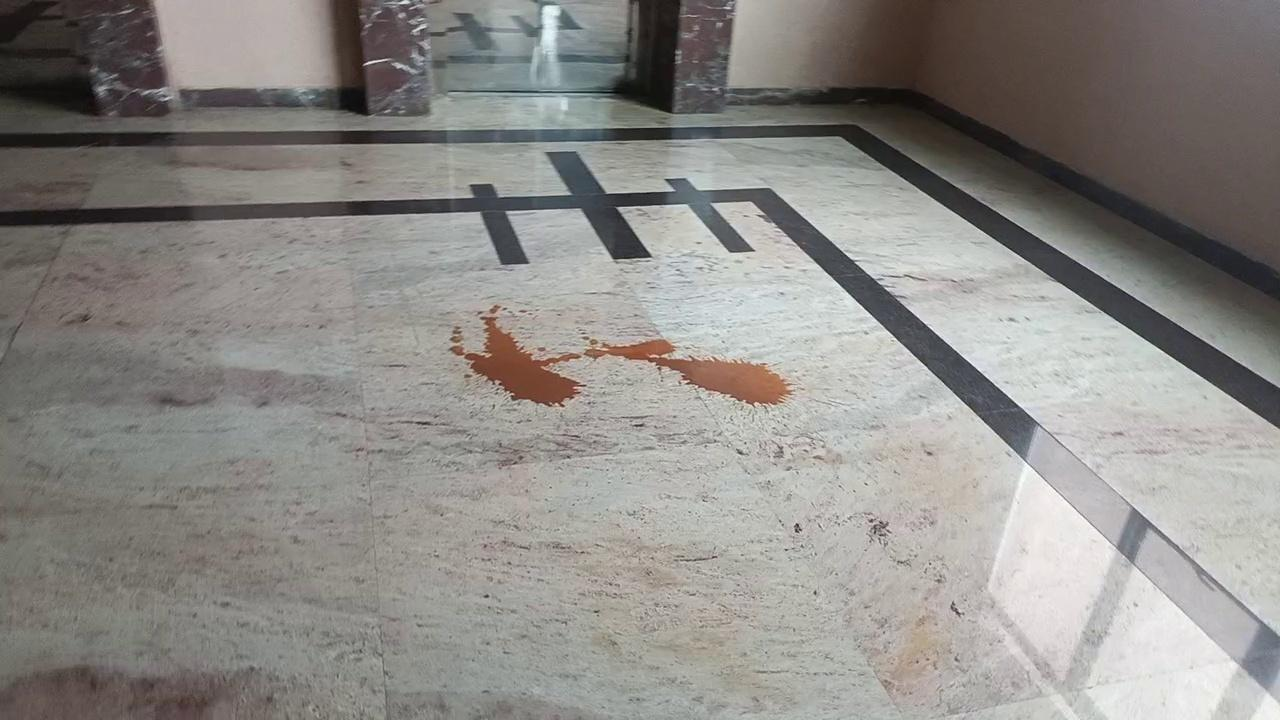dirty_floor: (450, 303, 795, 417)
